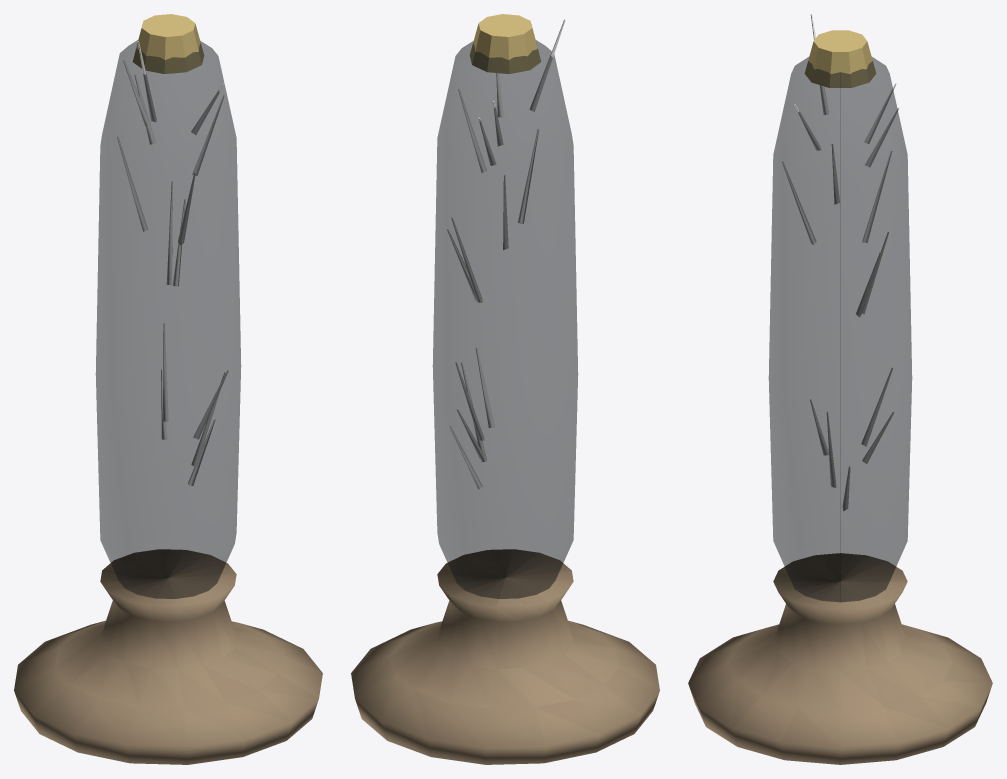
File: storm_glass_a.glb
The picture shows the model from 3 angles, left to right: view 1: azimuth 30°, elevation 25°; view 2: azimuth 150°, elevation 25°; view 3: azimuth 270°, elevation 25°; orthographic projection. The views are drawn at different scales.
Parts seen in each view (by area): view 1: body; view 2: body; view 3: body.
Part boxes in pixels (<box>): body: <box>14,14,322,764</box>; body: <box>351,14,659,764</box>; body: <box>688,14,992,764</box>.
Bounding box in the file's own units: 0.136 × 0.3289 × 0.136.
